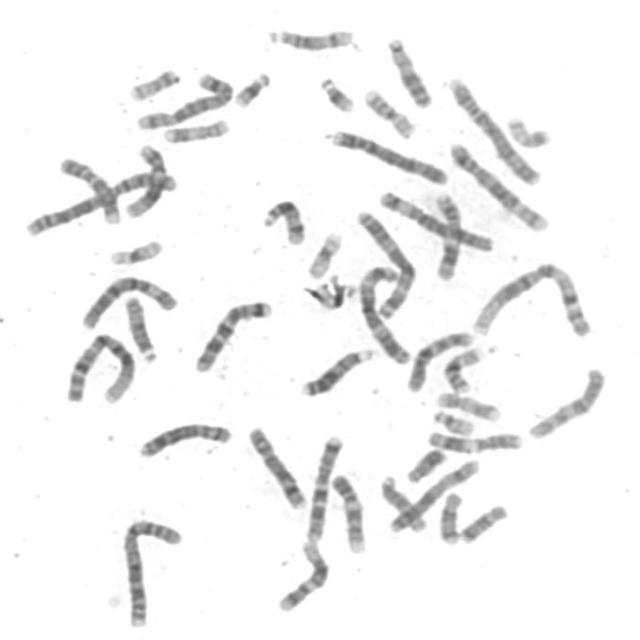A1: (466, 256, 595, 340), (60, 327, 139, 406)
A2: (20, 166, 182, 238), (116, 511, 186, 630)
A3: (350, 204, 420, 320), (352, 259, 414, 365)
B4: (442, 69, 546, 187), (322, 122, 452, 187)
B5: (443, 136, 552, 233), (131, 66, 236, 130)
C10: (523, 361, 609, 441), (402, 325, 476, 394)
C11: (428, 188, 465, 281), (422, 424, 526, 455)
C12: (272, 535, 332, 614), (119, 138, 170, 220)
C6: (373, 182, 497, 254), (76, 268, 181, 331)
C7: (188, 293, 276, 374), (300, 428, 348, 544)
C8: (242, 420, 310, 511), (133, 416, 235, 460)
C9: (53, 151, 124, 226), (326, 468, 370, 555)
D13: (295, 342, 379, 398), (382, 31, 436, 110)
D14: (262, 21, 358, 52), (257, 193, 308, 246)
D15: (375, 470, 432, 534), (119, 290, 161, 364)
E16: (359, 82, 419, 140), (439, 340, 490, 394)
E17: (431, 386, 504, 424), (158, 112, 232, 144)
E18: (454, 498, 510, 546), (434, 486, 466, 546)
F19: (302, 225, 346, 280), (104, 233, 166, 267)
F20: (122, 62, 184, 102), (501, 109, 554, 150)
G21: (228, 65, 274, 109), (314, 70, 359, 114)
G22: (303, 271, 362, 311), (428, 404, 477, 436)
X: (383, 454, 484, 534)
Y: (400, 443, 449, 484)
